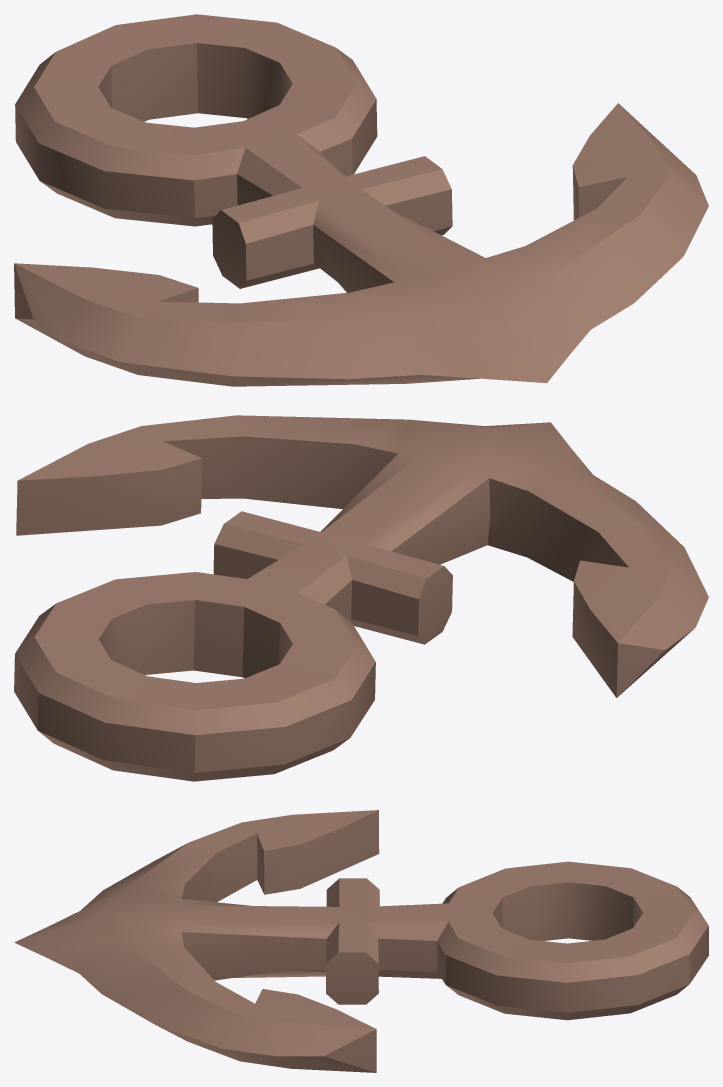
Rendered from Prop_Anchor.gltf.
The picture shows the model from 3 angles, top to bottom: view 1: azimuth 30°, elevation 25°; view 2: azimuth 150°, elevation 25°; view 3: azimuth 270°, elevation 25°; orthographic projection. The views are drawn at different scales.
Visible parts, largest first — view 1: Prop_Anchor; view 2: Prop_Anchor; view 3: Prop_Anchor.
Part boxes in pixels (left/top/right/bottom): Prop_Anchor: left=14, top=14, right=708, bottom=386; Prop_Anchor: left=14, top=415, right=708, bottom=781; Prop_Anchor: left=14, top=810, right=708, bottom=1072.
Bounding box in the file's own units: 0.7806 × 0.0929 × 0.9505.
1 material, 1 textured.
